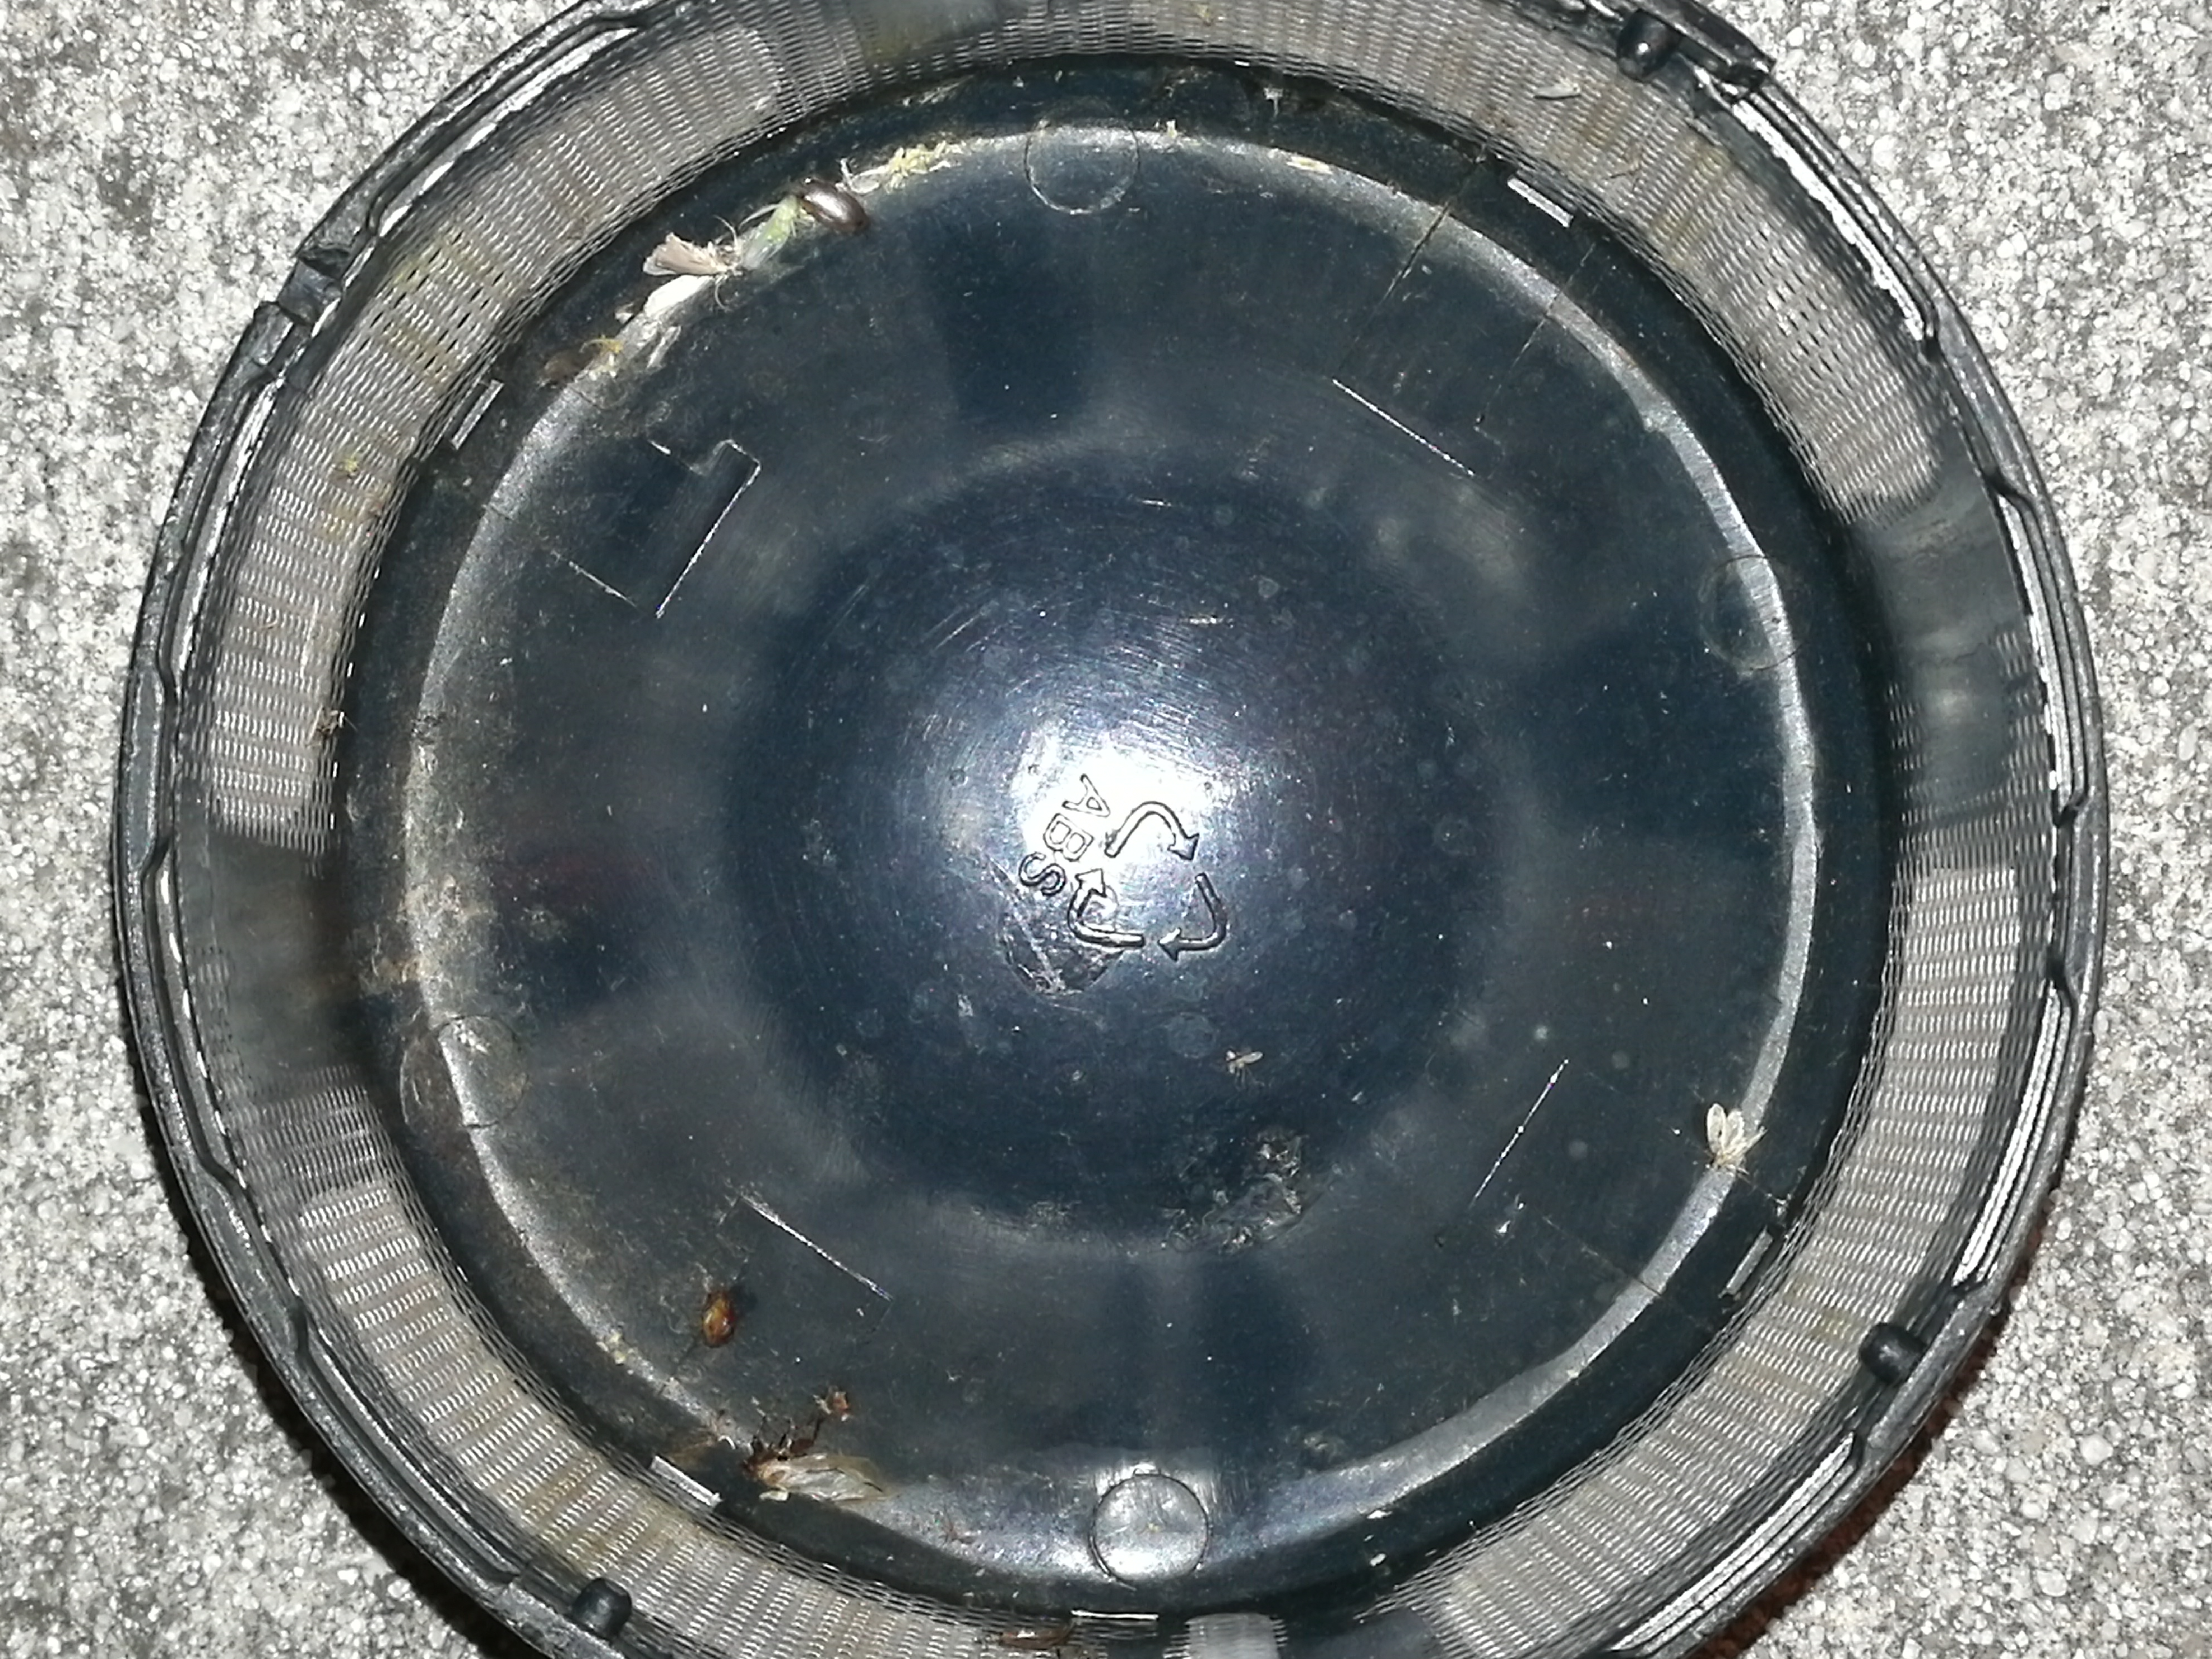beetle: (791, 179, 866, 230), (745, 1438, 808, 1485)
moth: (643, 234, 730, 317), (1703, 1103, 1766, 1161)
